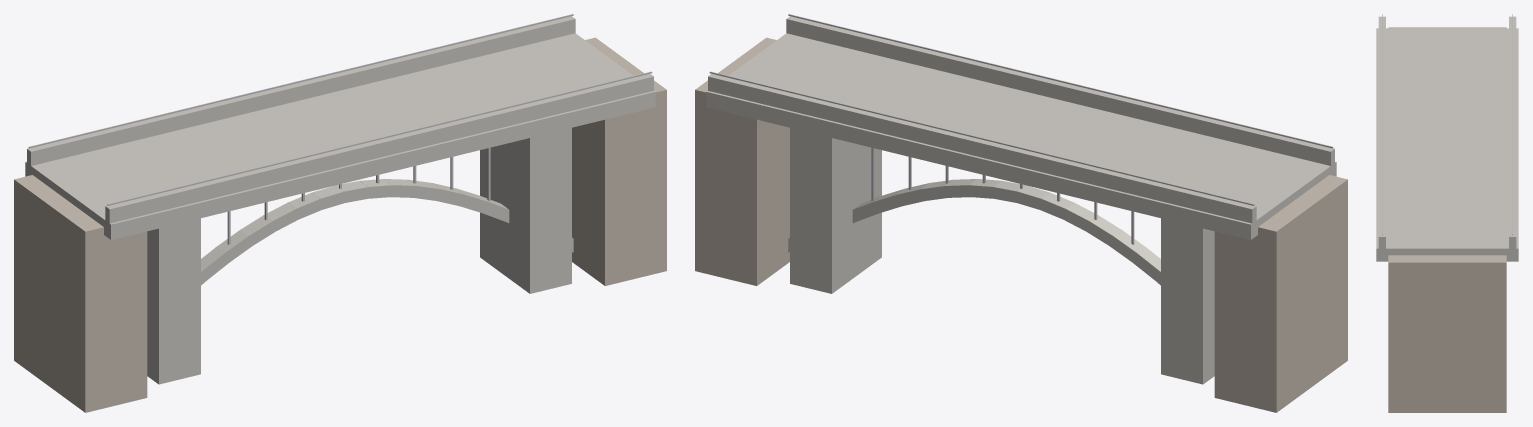
Rendered from bridge.glb.
3 views of the same model, side by side, from view 1: azimuth 30°, elevation 25°; view 2: azimuth 150°, elevation 25°; view 3: azimuth 270°, elevation 25° (orthographic). The views are drawn at different scales.
Parts seen in each view (by area): view 1: concrete, stone, metal; view 2: concrete, stone, metal; view 3: concrete, stone, metal.
Boxes of the visible parts, x1=… form: concrete: x1=25, y1=16, x2=655, y2=384; stone: x1=14, y1=37, x2=666, y2=412; metal: x1=28, y1=14, x2=652, y2=244; concrete: x1=706, y1=16, x2=1336, y2=384; stone: x1=695, y1=37, x2=1347, y2=412; metal: x1=709, y1=14, x2=1333, y2=244; concrete: x1=1376, y1=16, x2=1518, y2=261; stone: x1=1388, y1=27, x2=1506, y2=412; metal: x1=1382, y1=14, x2=1512, y2=235.
Size of the model in its own units: 47 by 15.95 by 12.
